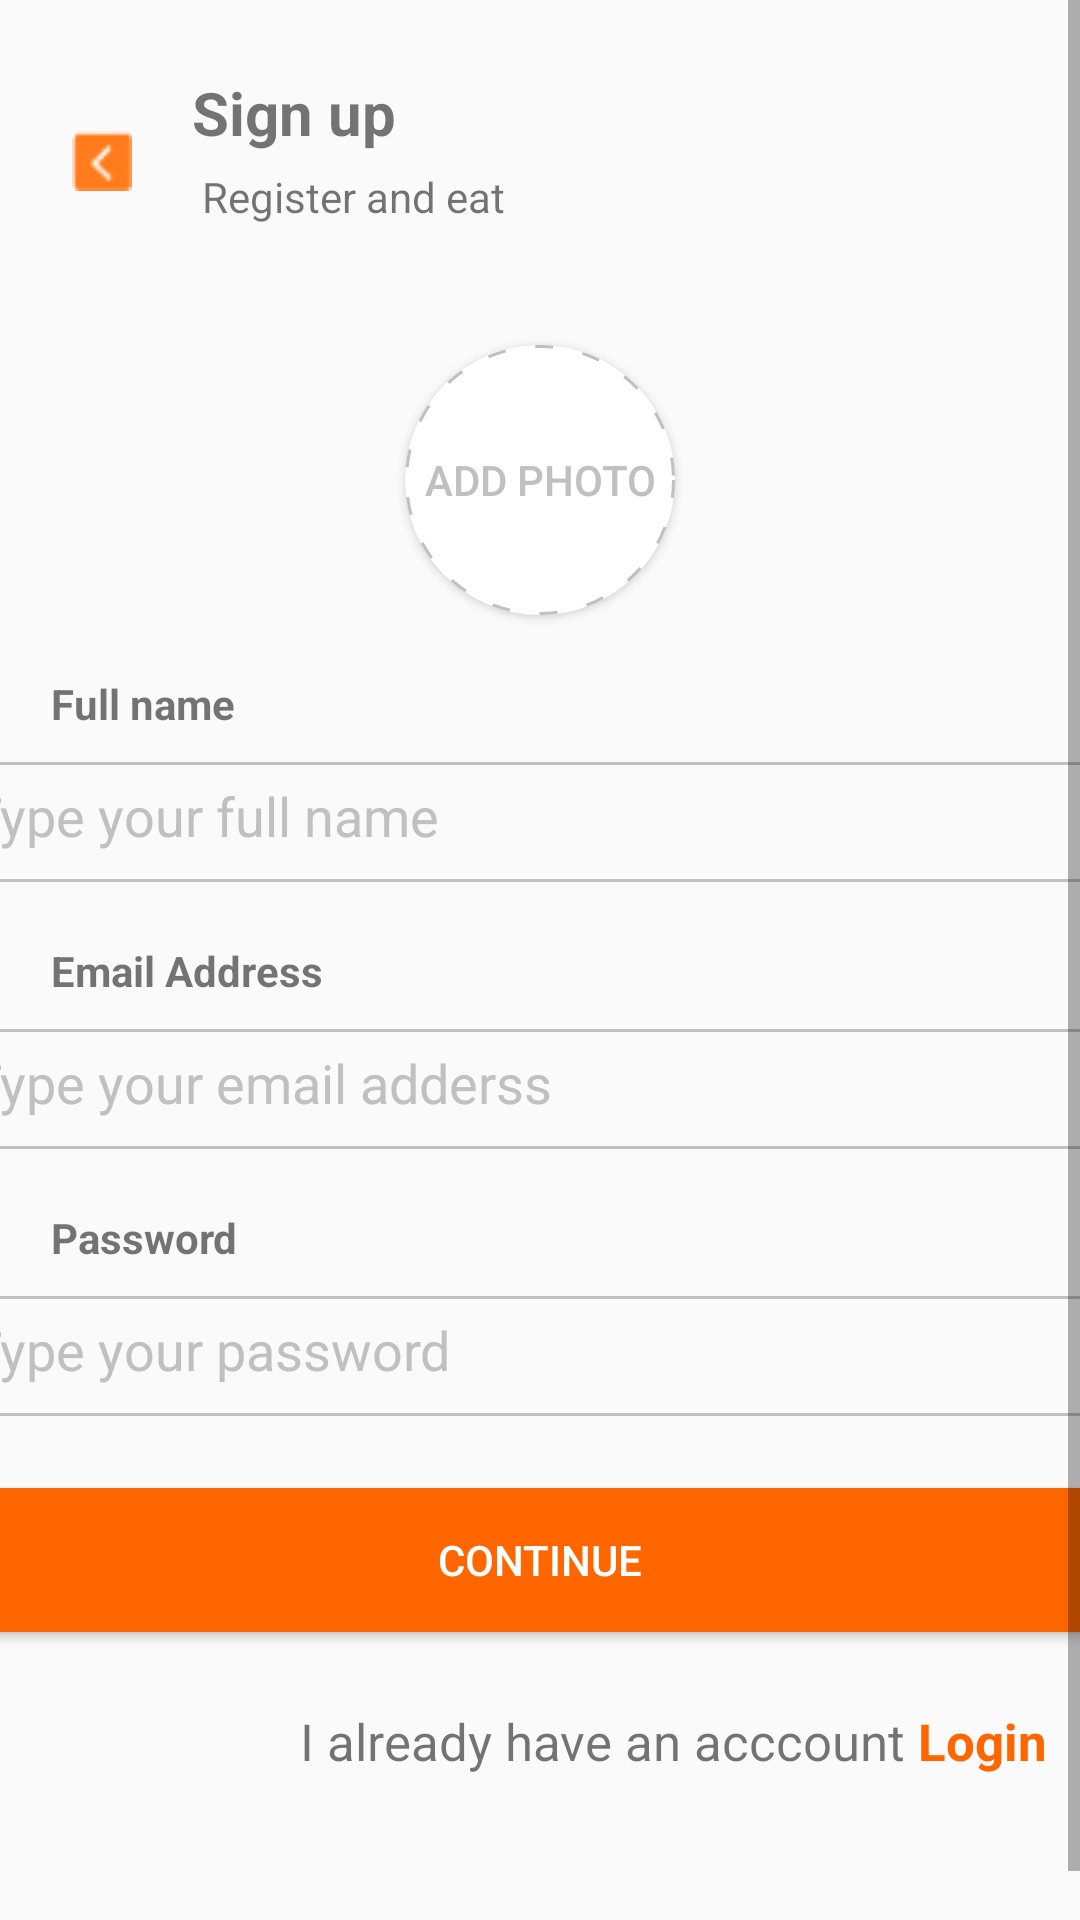

Icons on this 1080px×1920px Android screen, each with the point to tap as (x,y):
back: (102,161)
